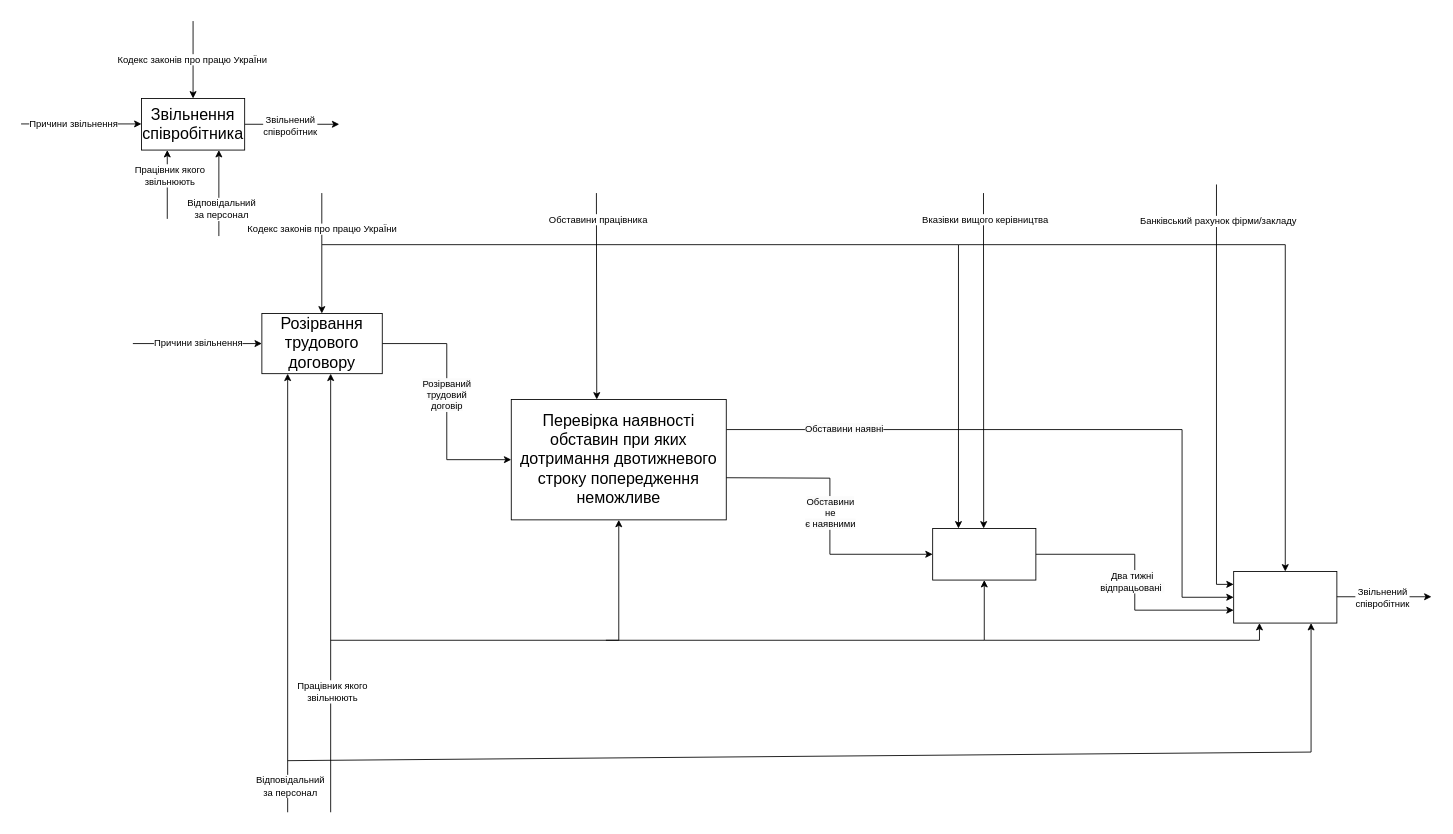
Image size: 1453x834. Some labels were removed from this diagram. The shapes that lost their labels are listed below. From the top down, each one's box as (x1, y1, x2, y2) in pixels, then its label:
(932, 528, 1036, 580): Відпрацювання двох тижнів
(1233, 571, 1337, 623): Виплата остаточних сум
